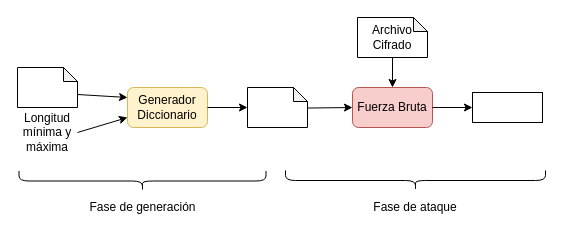
The diagram is 563 pixels wide and 235 high, and some of its shapes have lost their labels. Each missing label, with the centre of its shape:
"Clave" belongs at (x=507, y=107).
"Diccionario" belongs at (x=277, y=107).
"Palabras" belongs at (x=47, y=87).
